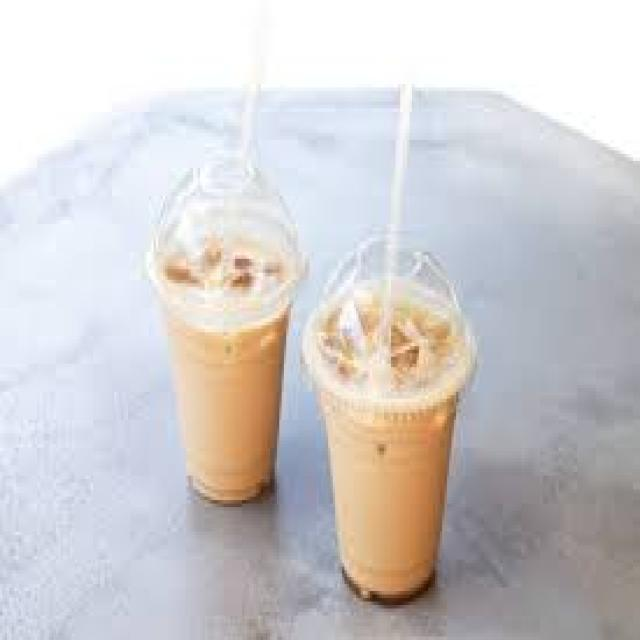bottle: (319, 391, 457, 598), (167, 308, 289, 502)
